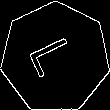L_NE: (26, 33, 84, 82)
